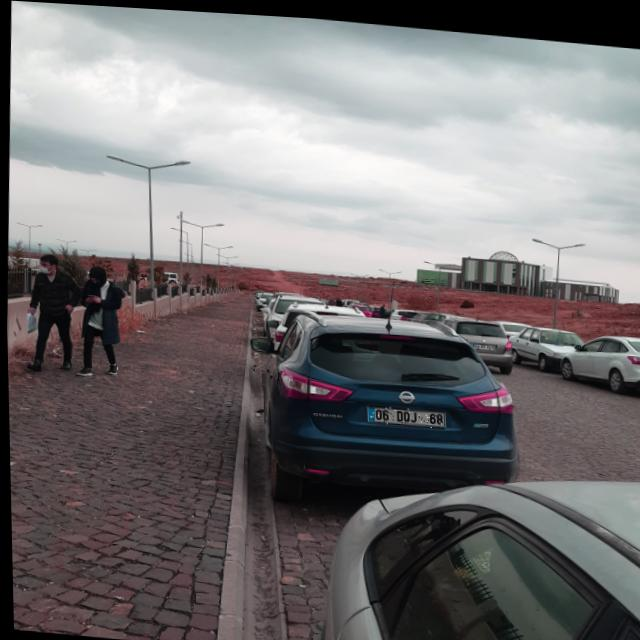license_plate: (366, 400, 443, 423)
